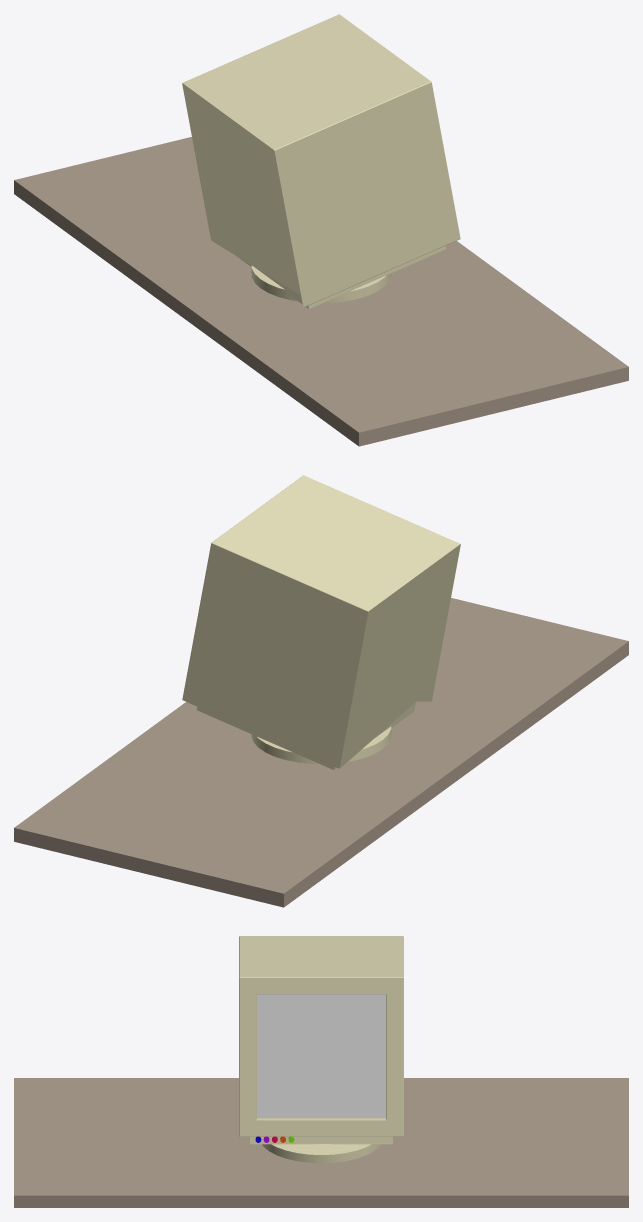
The model's file is cctv_test.fbx.
3 renders of one model, top to bottom at view 1: azimuth 30°, elevation 25°; view 2: azimuth 150°, elevation 25°; view 3: azimuth 270°, elevation 25°, orthographic. The views are drawn at different scales.
Visible parts, largest first — view 1: Cube, monitor_body, Cylinder; view 2: Cube, monitor_body, Cylinder; view 3: Cube, monitor_body, monitor_screen, Cylinder.
Part boxes in pixels (<box>): Cube: <box>14,137,628,446</box>; monitor_body: <box>182,14,460,308</box>; Cylinder: <box>251,265,391,302</box>; Cube: <box>14,598,628,907</box>; monitor_body: <box>182,475,460,769</box>; Cylinder: <box>251,726,391,763</box>; Cube: <box>14,1078,628,1207</box>; monitor_body: <box>239,936,403,1144</box>; monitor_screen: <box>257,994,385,1117</box>; Cylinder: <box>262,1144,380,1163</box>.
Size of the model in its own units: 337 by 267 by 746.
